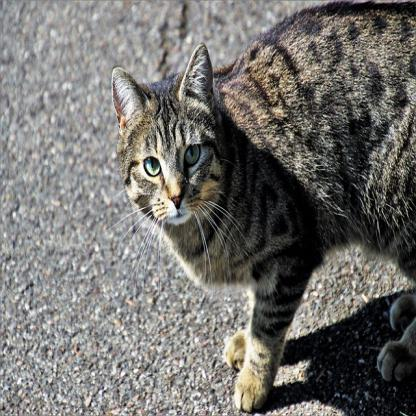cat: (112, 3, 415, 414)
